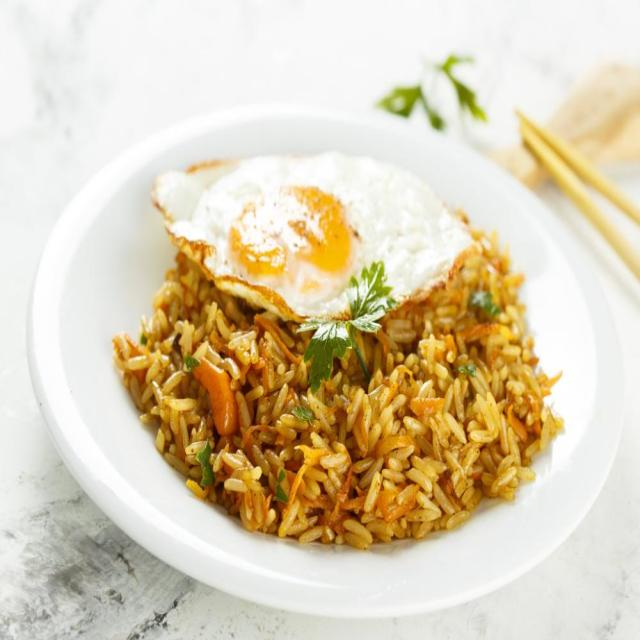Nasi Goreng: (111, 151, 564, 550)
